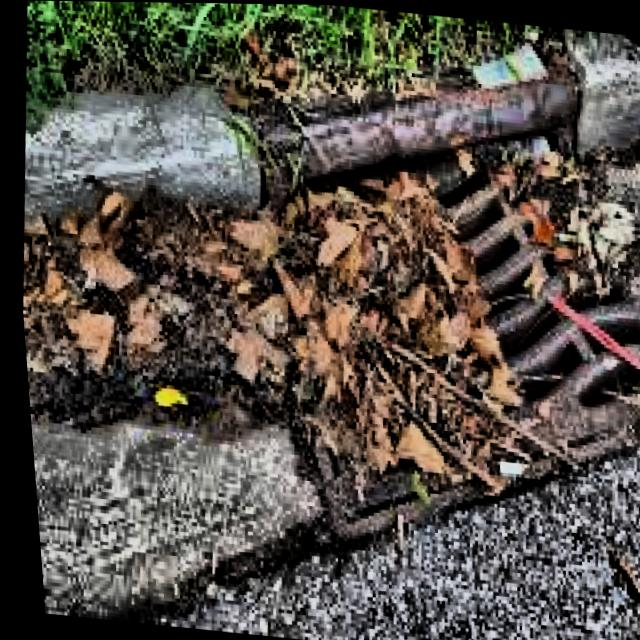clogged_drains: (289, 158, 632, 482)
